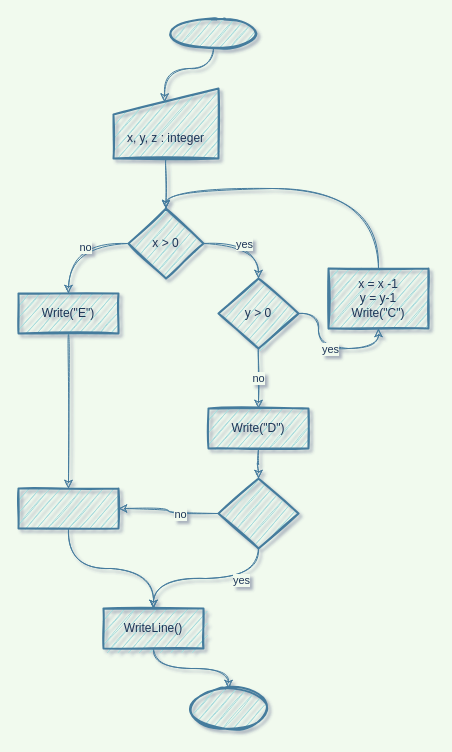
Some shapes in this 452 by 752 pixel diagram are drawn without their labels. The centre of each missing label's shape, as x and y in pixels:
start: point 213,33
stop: point 228,708
Write("G"): point 68,508
z > 0: point 258,513
